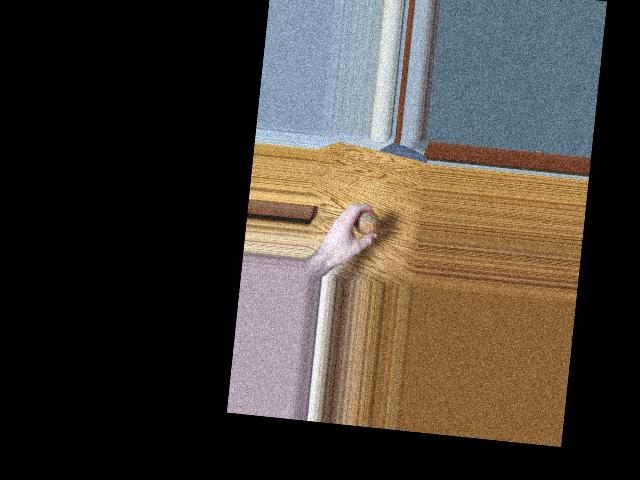onion: (354, 207, 380, 236)
